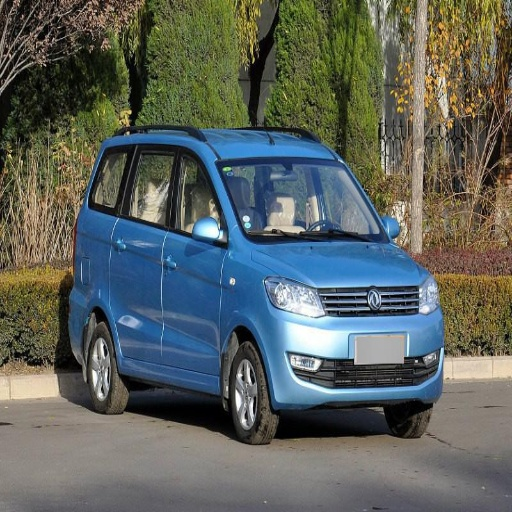front_bumper: (260, 286, 446, 414)
front_right_door: (163, 145, 229, 380)
front_right_light: (266, 277, 327, 317)
hood: (254, 241, 426, 291)
